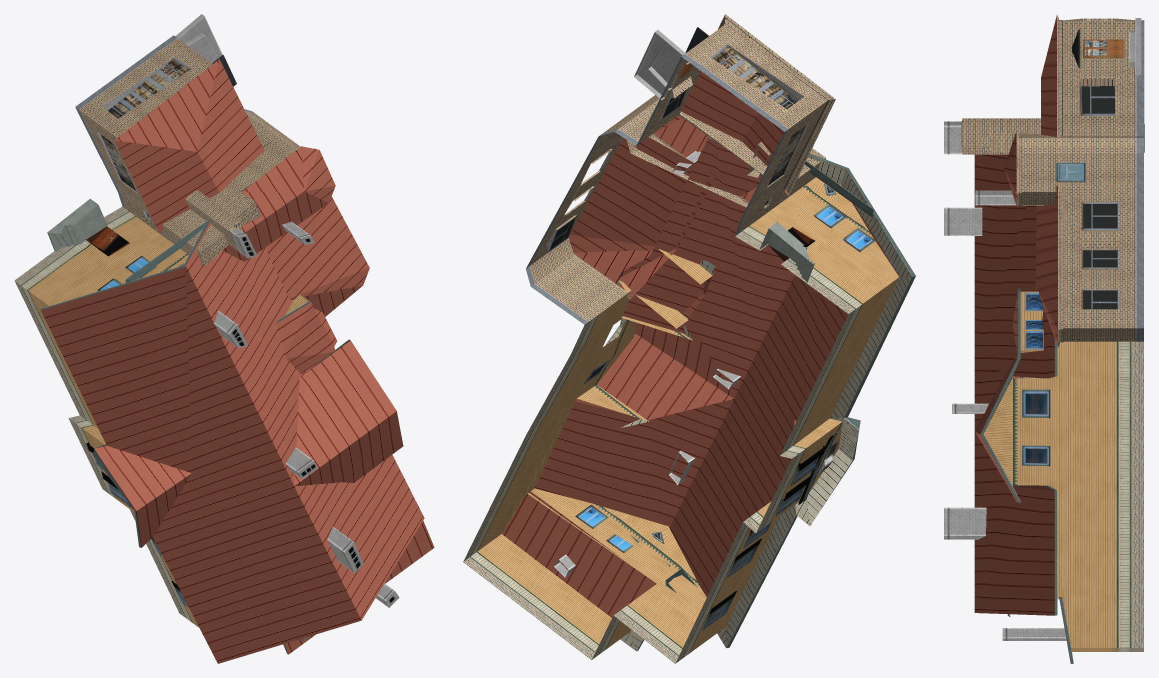
Rendered from 103_Toompuiestee_16_korvalhoone-origo.obj.
The picture shows the model from 3 angles, left to right: view 1: azimuth 30°, elevation 25°; view 2: azimuth 150°, elevation 25°; view 3: azimuth 270°, elevation 25°; orthographic projection. The views are drawn at different scales.
Visible parts, largest first — view 1: house00; view 2: house00; view 3: house00.
Part boxes in pixels (x1=…): house00: x1=14, y1=14, x2=434, y2=663; house00: x1=463, y1=14, x2=915, y2=663; house00: x1=944, y1=14, x2=1144, y2=663.
Bounding box in the file's own units: 26.5 × 39.5 × 11.57.
